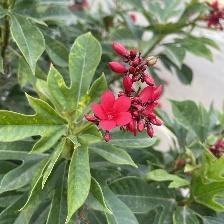jatropha: (92, 90, 134, 132)
